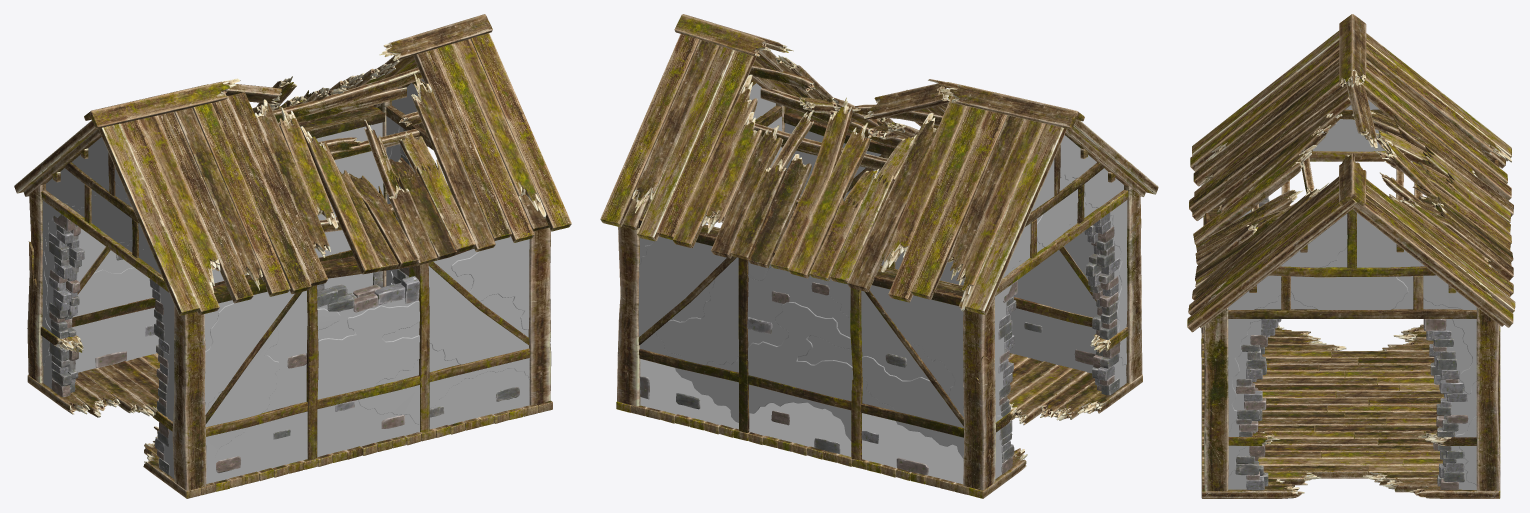
3 views of the same model, side by side, from view 1: azimuth 30°, elevation 25°; view 2: azimuth 150°, elevation 25°; view 3: azimuth 270°, elevation 25° (orthographic). The views are drawn at different scales.
Visible parts, largest first — view 1: SM_Dmg_VillageHouse_01_LOD0; view 2: SM_Dmg_VillageHouse_01_LOD0; view 3: SM_Dmg_VillageHouse_01_LOD0.
Part boxes in pixels (x1=…): SM_Dmg_VillageHouse_01_LOD0: x1=14, y1=14, x2=571, y2=498; SM_Dmg_VillageHouse_01_LOD0: x1=600, y1=14, x2=1158, y2=498; SM_Dmg_VillageHouse_01_LOD0: x1=1187, y1=14, x2=1515, y2=498.
Size of the model in its own units: 6.94 by 5.59 by 5.32.
